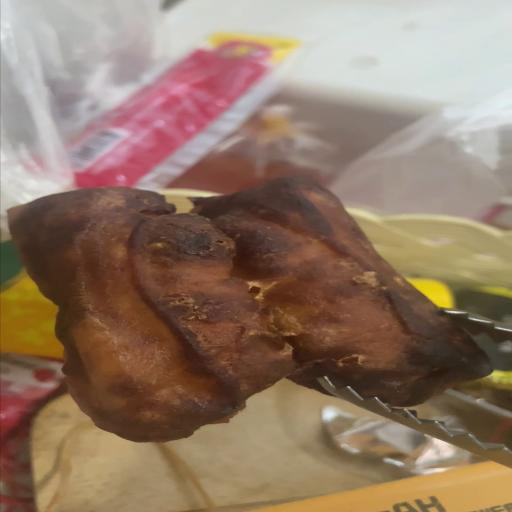street_burnt_defect: (8, 177, 491, 442)
